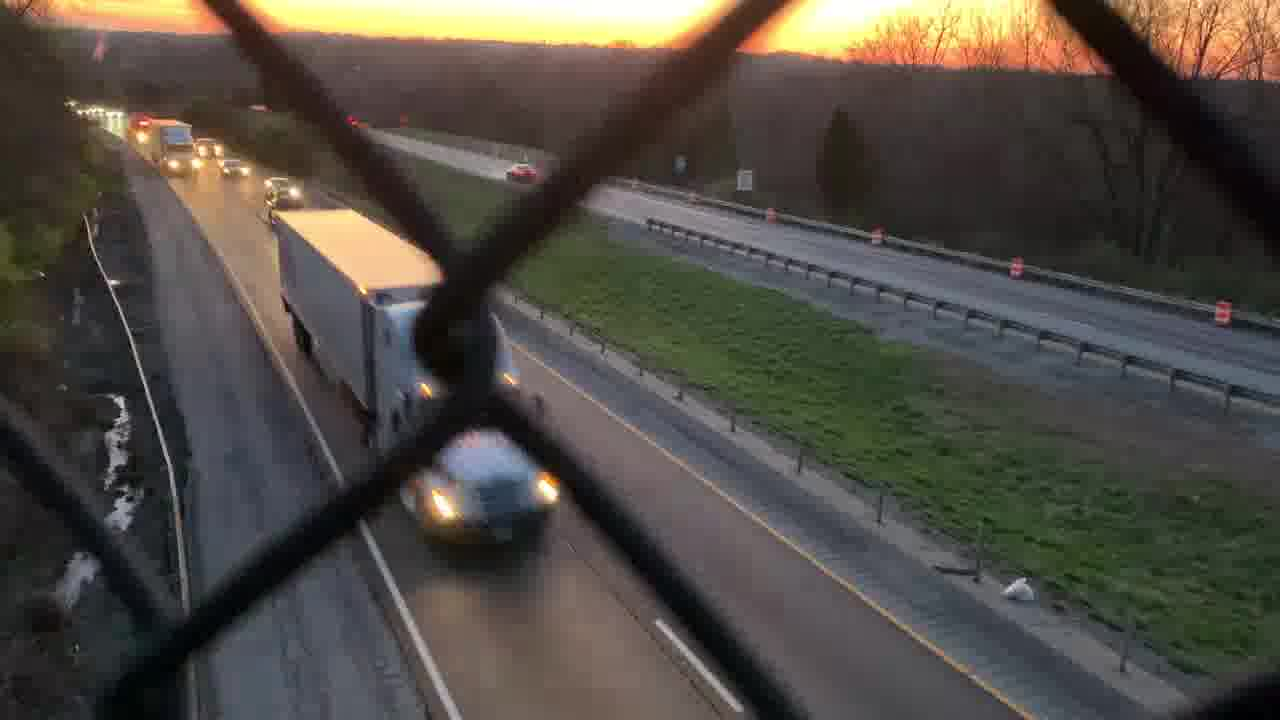heavyTruck: (272, 208, 567, 552), (149, 122, 202, 178)
smallCar: (262, 170, 302, 208), (501, 160, 541, 182), (219, 157, 246, 180)
